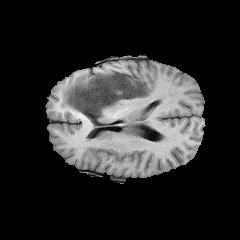glioma: (61, 74, 150, 128)
